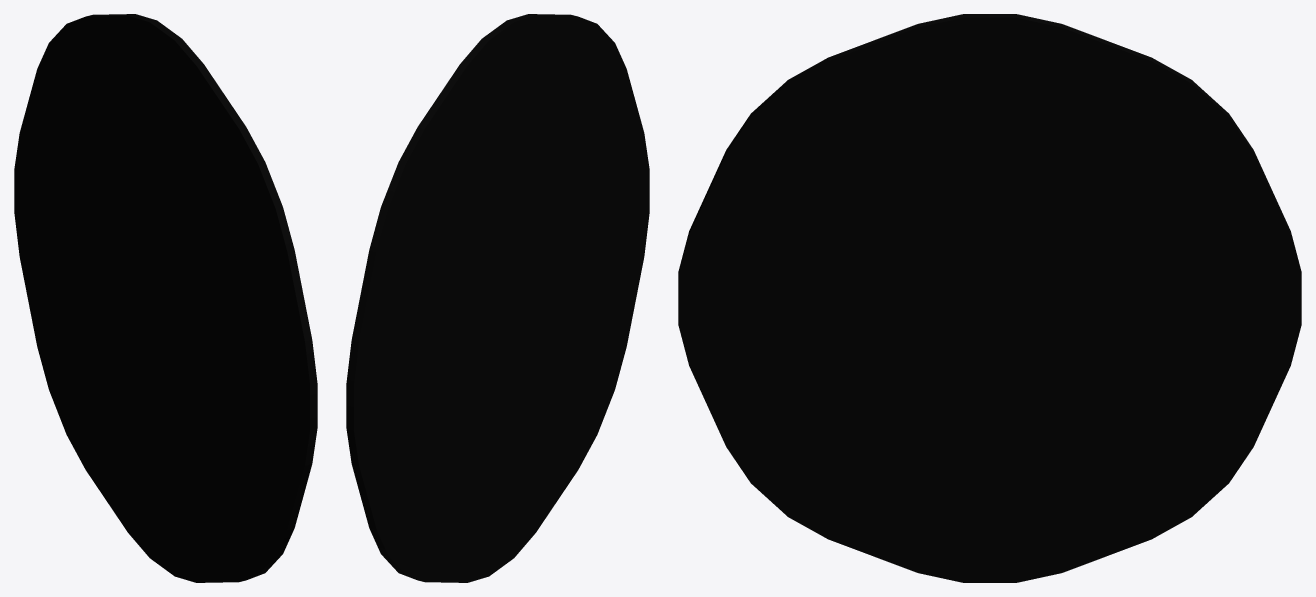
The model's file is PropRot228.fbx.
The picture shows the model from 3 angles, left to right: view 1: azimuth 30°, elevation 25°; view 2: azimuth 150°, elevation 25°; view 3: azimuth 270°, elevation 25°; orthographic projection. The views are drawn at different scales.
Visible parts, largest first — view 1: PropRot228; view 2: PropRot228; view 3: PropRot228.
Boxes of the visible parts, box(x1,y1,x2,y2) form: PropRot228: box(14, 14, 317, 582); PropRot228: box(346, 14, 649, 582); PropRot228: box(678, 14, 1301, 582).
Bounding box in the file's own units: 2.71 × 189 × 189.
